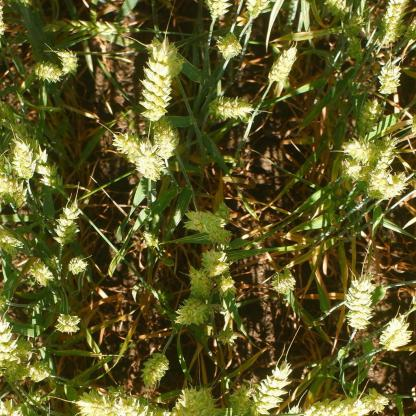whd: (0, 102, 61, 190), (140, 36, 172, 123), (251, 359, 292, 416), (343, 272, 377, 330), (146, 35, 185, 78), (41, 19, 125, 37), (378, 313, 413, 351), (52, 200, 80, 246), (304, 397, 370, 415), (209, 95, 253, 122), (139, 351, 171, 387), (112, 397, 170, 416), (381, 0, 409, 38), (268, 47, 297, 83), (183, 210, 225, 234), (0, 316, 18, 372), (153, 121, 179, 159), (228, 382, 257, 416), (12, 139, 36, 179), (176, 298, 210, 326), (373, 136, 398, 172), (0, 174, 28, 206), (342, 138, 376, 164), (112, 132, 140, 163), (76, 392, 112, 416), (358, 99, 383, 133), (201, 248, 230, 276), (188, 266, 213, 298), (378, 60, 401, 94), (136, 156, 166, 182), (175, 388, 202, 416), (361, 388, 389, 414), (366, 170, 392, 198), (217, 32, 242, 60), (0, 228, 24, 257), (29, 261, 54, 287), (385, 171, 411, 196), (272, 267, 296, 294), (35, 60, 62, 83), (379, 23, 408, 44), (197, 386, 216, 416), (203, 0, 234, 18), (214, 272, 237, 296), (28, 360, 52, 383), (55, 314, 81, 334), (245, 0, 272, 19), (58, 50, 79, 74), (340, 158, 362, 180), (324, 0, 350, 17), (67, 254, 88, 275), (344, 15, 364, 37), (8, 362, 30, 382), (0, 399, 25, 415), (208, 229, 232, 245), (16, 338, 32, 362), (214, 203, 232, 224), (349, 37, 363, 62), (218, 328, 237, 346), (358, 162, 376, 180), (138, 137, 154, 156), (404, 17, 416, 42), (143, 230, 159, 247), (108, 384, 124, 398), (46, 255, 60, 270), (0, 154, 10, 175), (27, 392, 43, 405), (0, 290, 8, 313), (0, 5, 6, 35), (286, 406, 302, 414), (411, 294, 416, 311), (412, 113, 416, 134), (21, 0, 33, 6)
